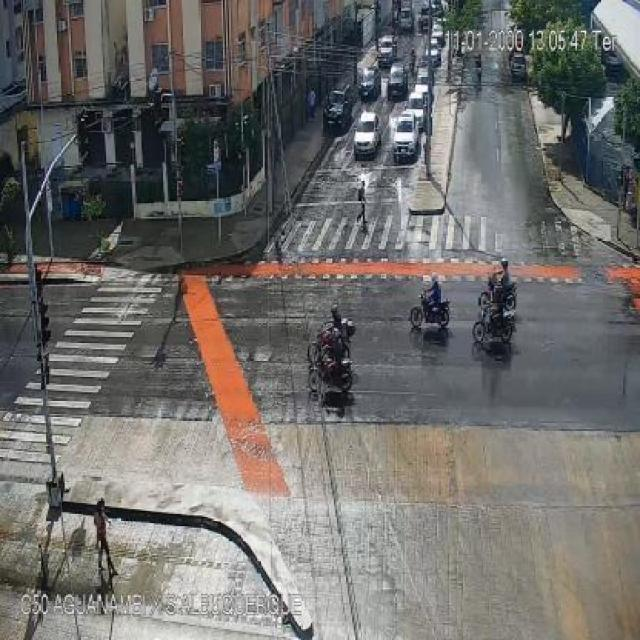Car: (347, 108, 383, 158), (388, 112, 422, 162), (320, 88, 354, 135), (352, 62, 380, 101), (398, 97, 426, 130), (386, 63, 412, 98), (373, 36, 399, 64), (415, 66, 432, 84)
Cycle: (302, 308, 361, 394), (467, 253, 547, 311), (462, 309, 540, 367), (407, 269, 465, 344)
